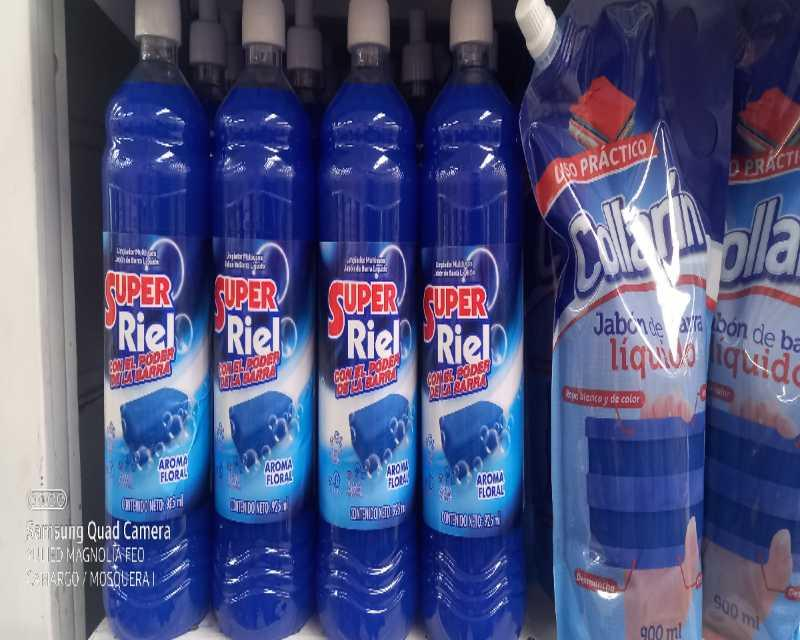SUPER-RIEL-AZUL-BOTELLA-925_50: (79, 1, 218, 631), (420, 1, 536, 640), (203, 1, 316, 640), (316, 1, 425, 640)
